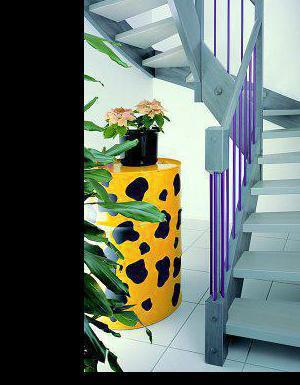Escaleras: (109, 0, 300, 363)
